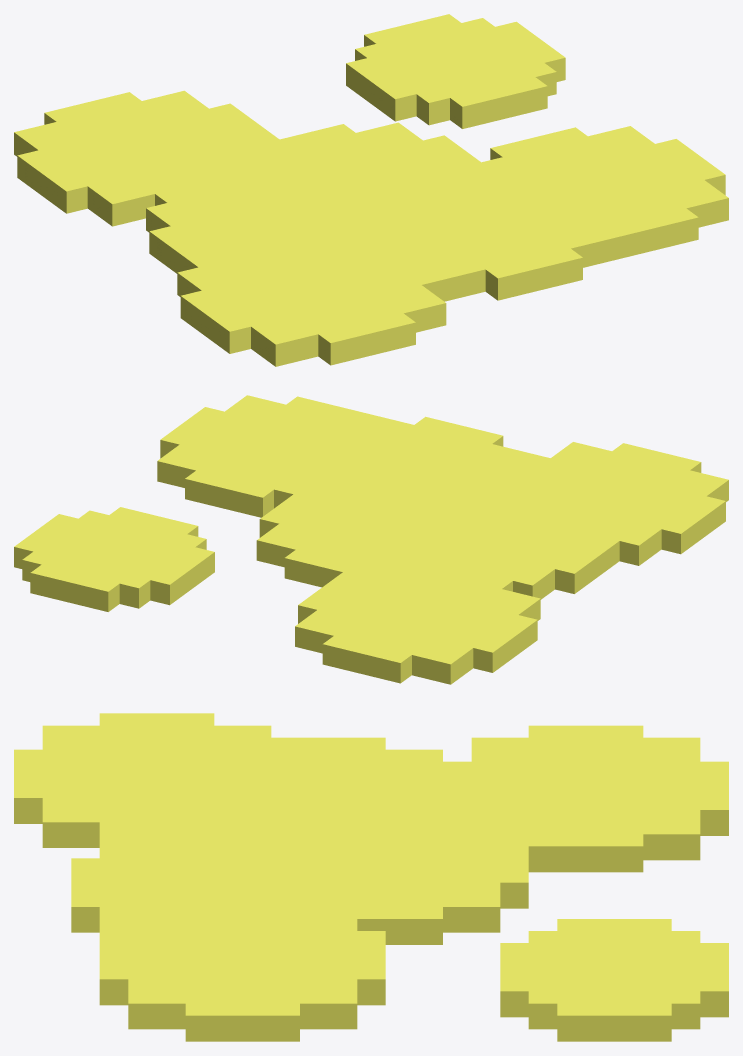
Rendered from RexPee3.obj.
3 views of the same model, one above another, from view 1: azimuth 30°, elevation 25°; view 2: azimuth 150°, elevation 25°; view 3: azimuth 270°, elevation 25° (orthographic). The views are drawn at different scales.
Bounding box in the file's own units: 2.5 × 0.1 × 2.5.
1 material, 1 textured.
